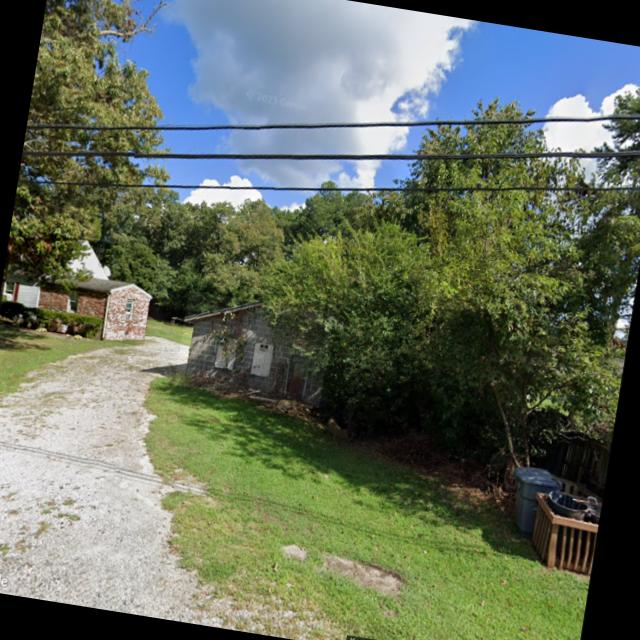House: (174, 290, 334, 408), (0, 227, 158, 346)
